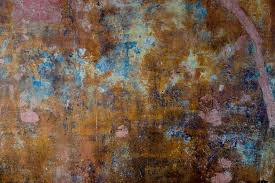rust: (14, 85, 189, 183), (180, 74, 261, 182), (137, 2, 196, 95), (37, 7, 122, 64), (203, 4, 249, 58)
